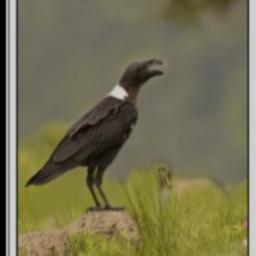Crow: (23, 57, 168, 213)
